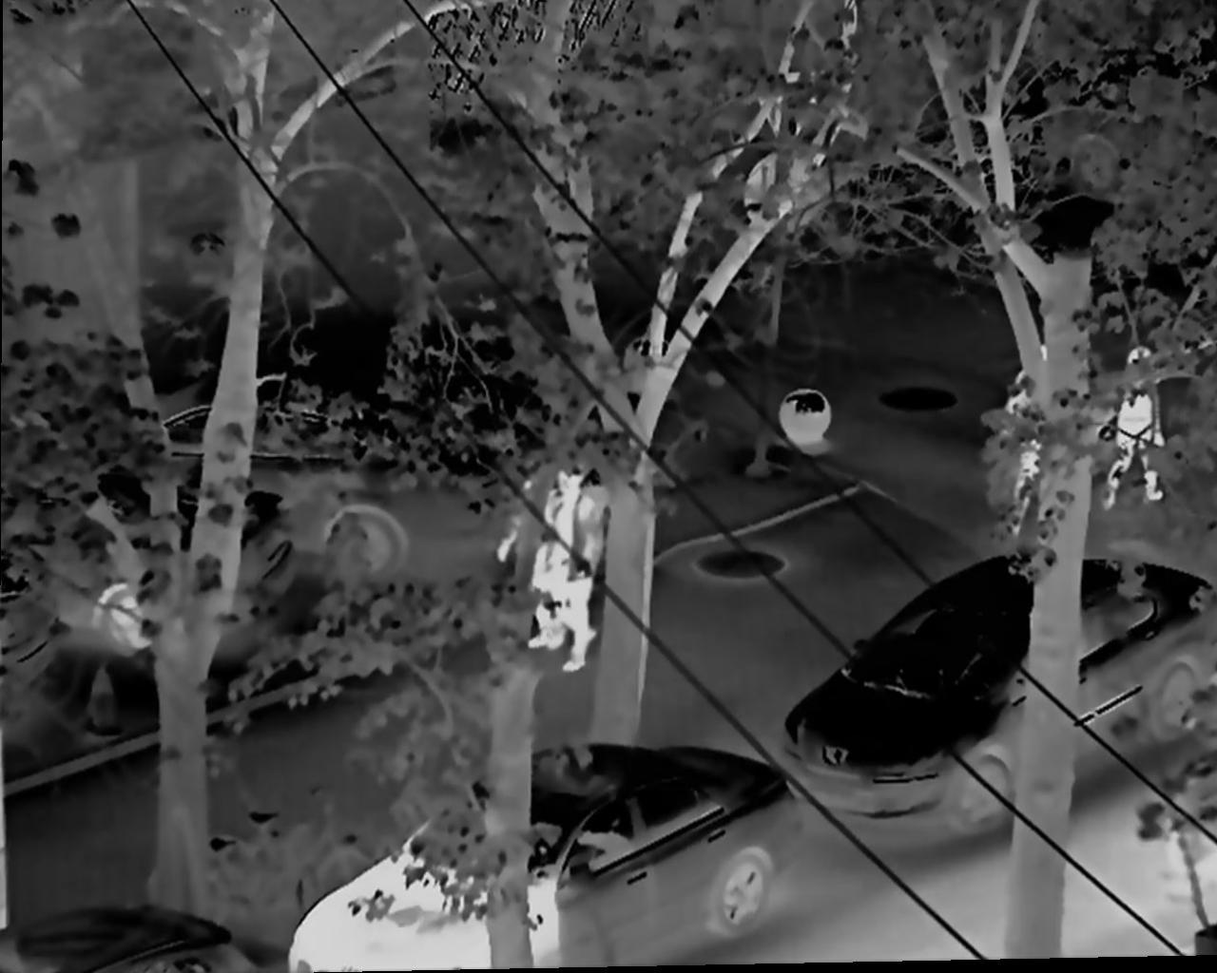person: (499, 465, 565, 650), (1103, 345, 1167, 509), (552, 467, 602, 670), (1005, 372, 1051, 533)
